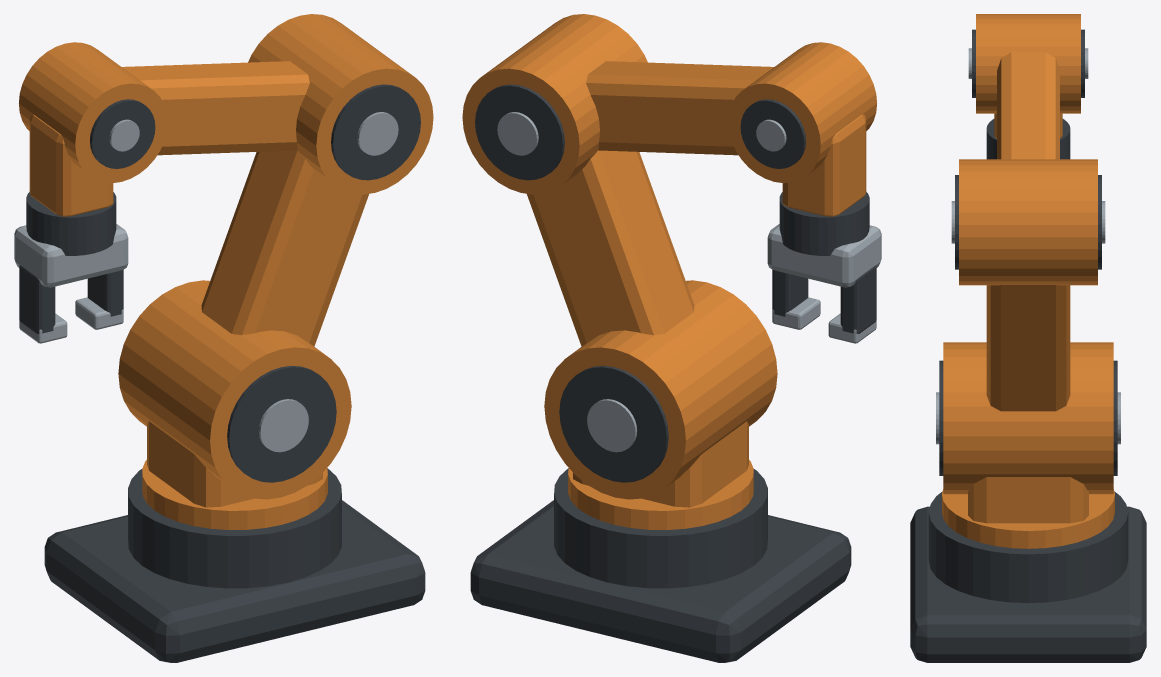
The model's file is NEW_RECOVERY_134_LOD0.glb.
3 renders of one model, left to right at view 1: azimuth 30°, elevation 25°; view 2: azimuth 150°, elevation 25°; view 3: azimuth 270°, elevation 25°, orthographic. The views are drawn at different scales.
Visible parts, largest first — view 1: RobotArm_Static_Solid; view 2: RobotArm_Static_Solid; view 3: RobotArm_Static_Solid.
Part boxes in pixels (x1,y1,x2,y2): RobotArm_Static_Solid: [14, 14, 433, 662]; RobotArm_Static_Solid: [462, 14, 881, 662]; RobotArm_Static_Solid: [910, 14, 1146, 662].
Bounding box in the file's own units: 1.51 × 2.21 × 0.9.
